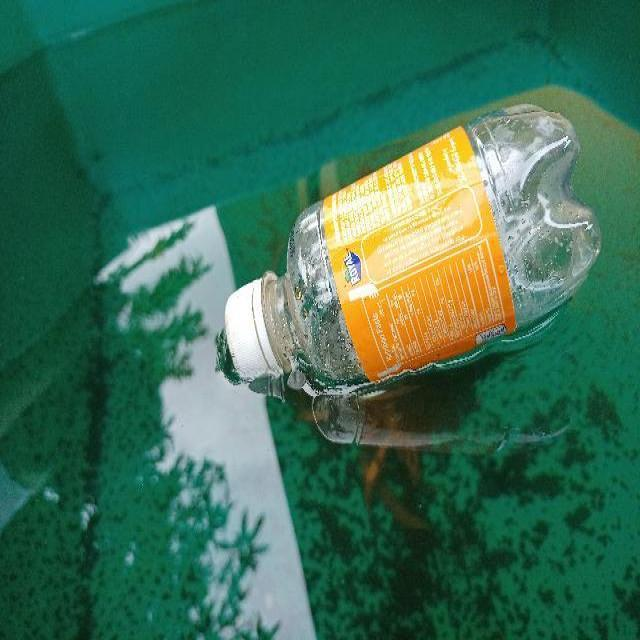Bottle: (216, 96, 608, 404)
